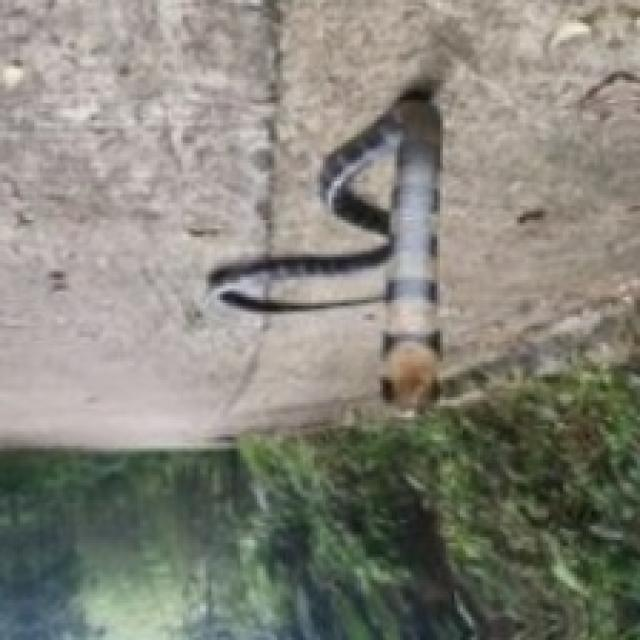king cobra: (209, 80, 440, 409)
